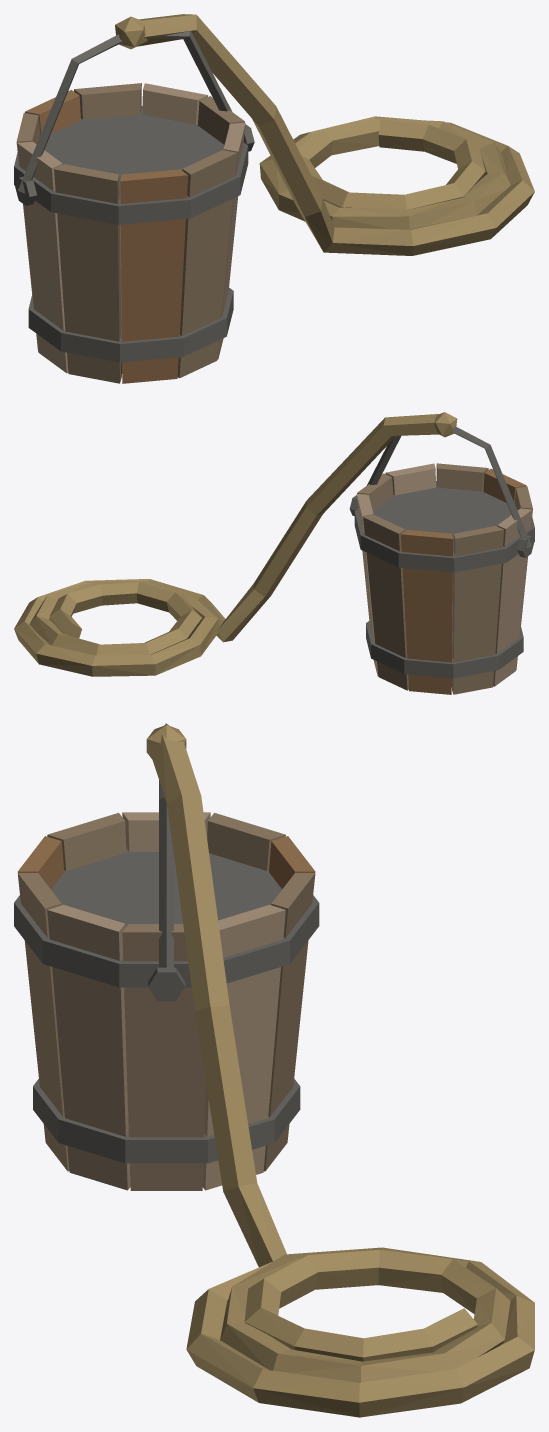
File: bucket_3.glb
3 renders of one model, top to bottom at view 1: azimuth 30°, elevation 25°; view 2: azimuth 150°, elevation 25°; view 3: azimuth 270°, elevation 25°, orthographic. The views are drawn at different scales.
Parts seen in each view (by area): view 1: Bucket_3; view 2: Bucket_3; view 3: Bucket_3.
Part boxes in pixels (box(x1,y1,x2,y2)): Bucket_3: box(14, 14, 534, 383); Bucket_3: box(14, 412, 534, 694); Bucket_3: box(14, 723, 534, 1417).
Size of the model in its own units: 0.9134 by 0.495 by 0.5599.
